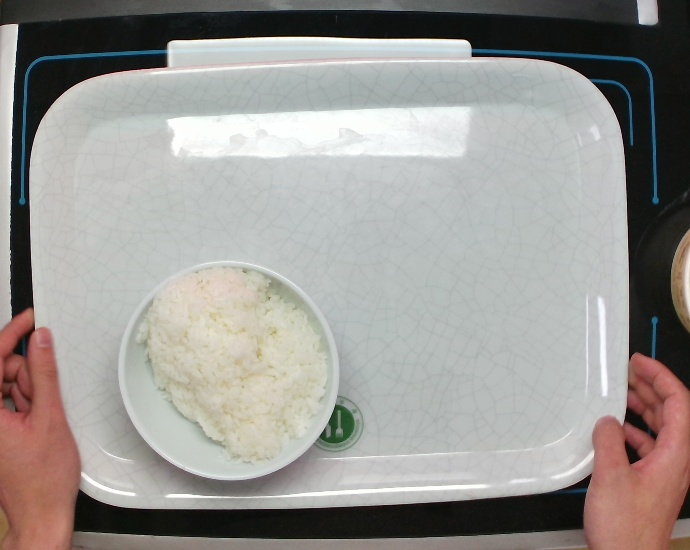JYsf-Fan_Wan: (116, 259, 341, 482)
